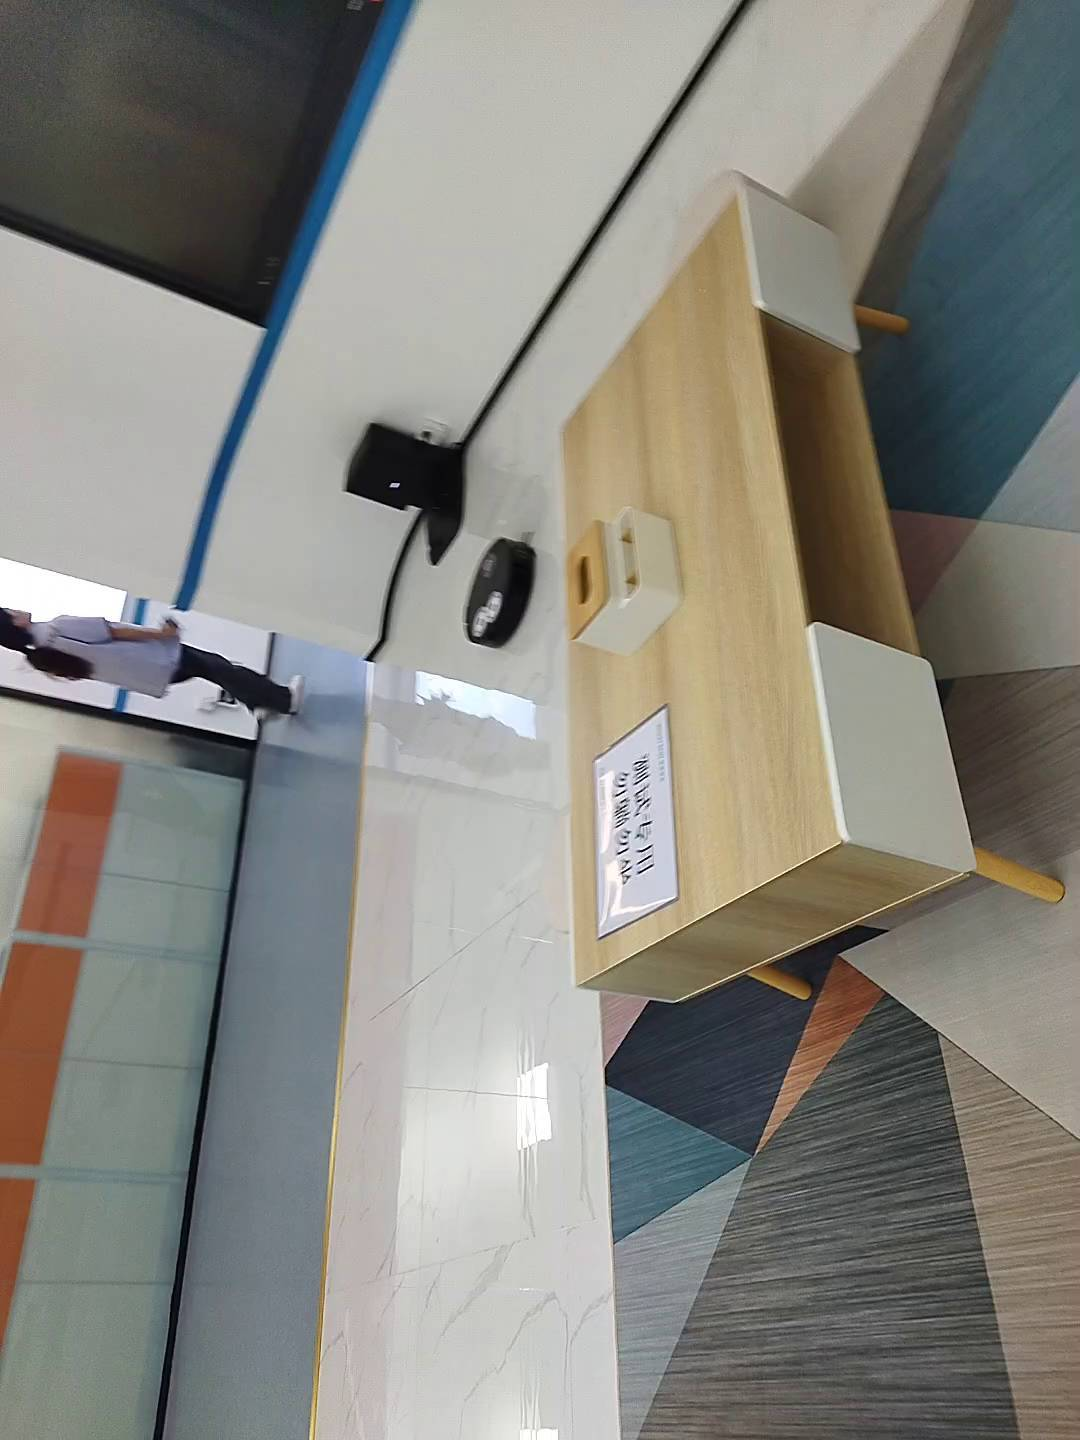dust collecting barrel: (344, 423, 467, 566)
